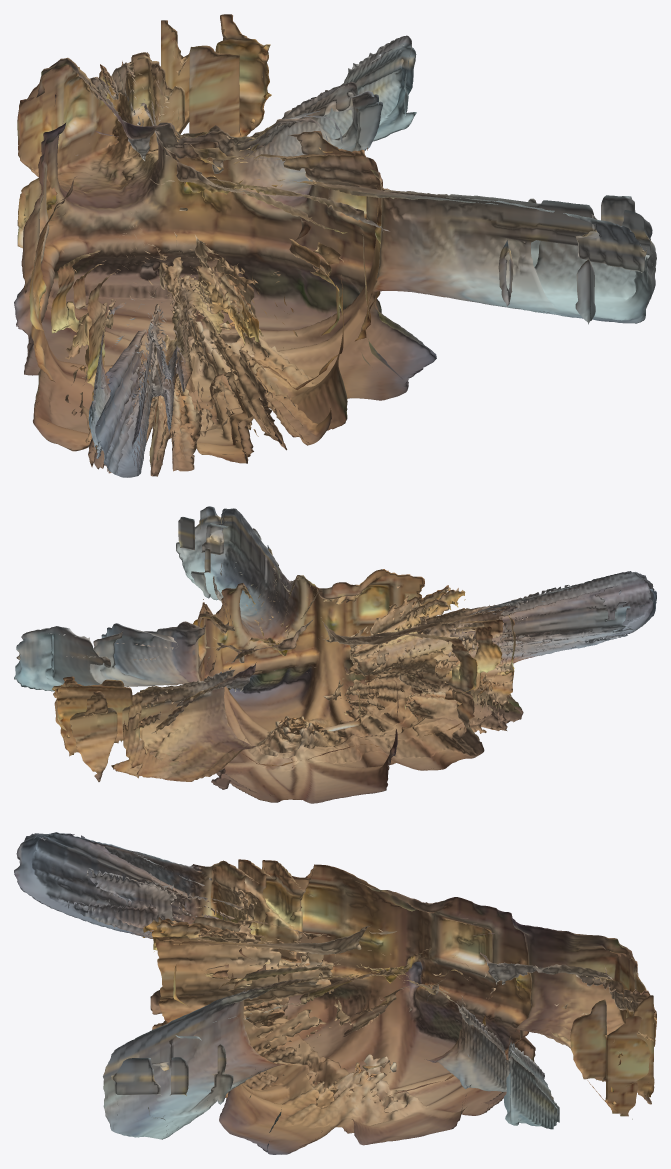
3 renders of one model, top to bottom at view 1: azimuth 30°, elevation 25°; view 2: azimuth 150°, elevation 25°; view 3: azimuth 270°, elevation 25°, orthographic. The views are drawn at different scales.
Parts seen in each view (by area): view 1: world; view 2: world; view 3: world.
Boxes of the visible parts, x1,y1,x2,y2 form: world: (14, 14, 656, 477); world: (14, 506, 656, 803); world: (14, 832, 656, 1154).
Bounding box in the file's own units: 15.47 × 4.71 × 16.75.
